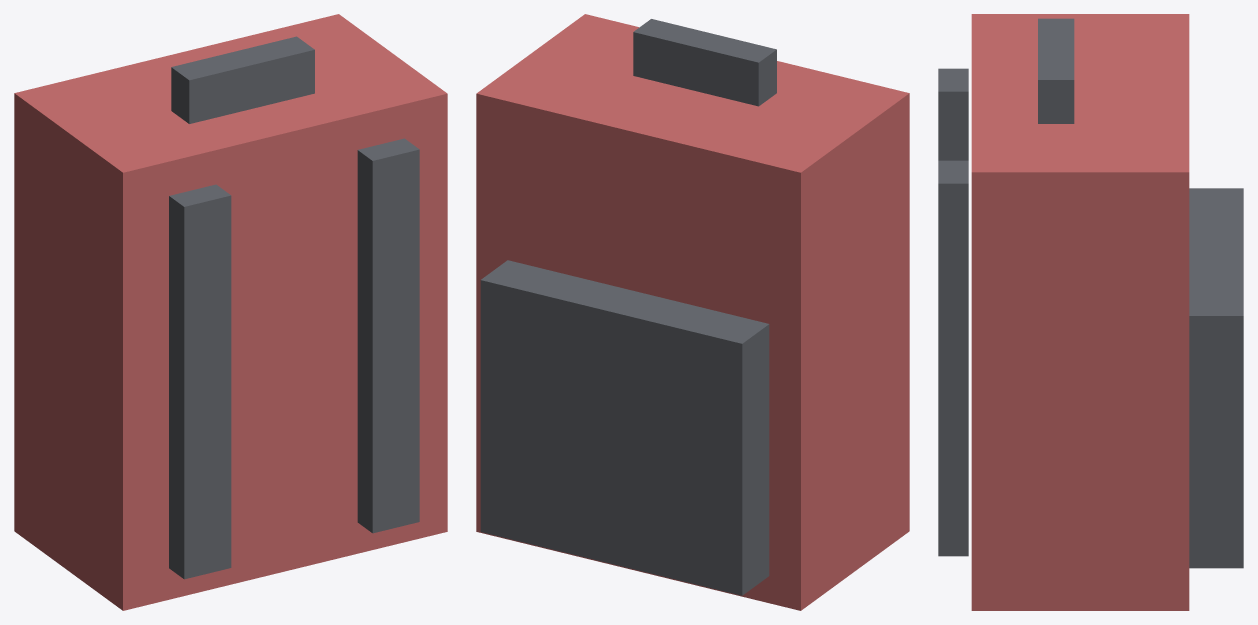
File: Prop_Backpack_Red.glb
The picture shows the model from 3 angles, left to right: view 1: azimuth 30°, elevation 25°; view 2: azimuth 150°, elevation 25°; view 3: azimuth 270°, elevation 25°; orthographic projection.
Parts seen in each view (by area): view 1: Main, StrapR, StrapL, TopHandle; view 2: Main, Pocket, TopHandle; view 3: Main, Pocket, StrapR, TopHandle, StrapL.
Boxes of the visible parts, x1,y1,x2,y2 form: Main: (14,14,447,610); StrapR: (357,138,419,533); StrapL: (169,184,231,579); TopHandle: (171,36,314,123); Main: (476,14,909,610); Pocket: (480,260,769,595); TopHandle: (633,19,776,106); Main: (971,14,1189,610); Pocket: (1189,188,1243,568); StrapR: (938,160,968,556); TopHandle: (1038,18,1074,123); StrapL: (938,68,968,160).
Size of the model in its own units: 0.31 by 0.44 by 0.2525.
